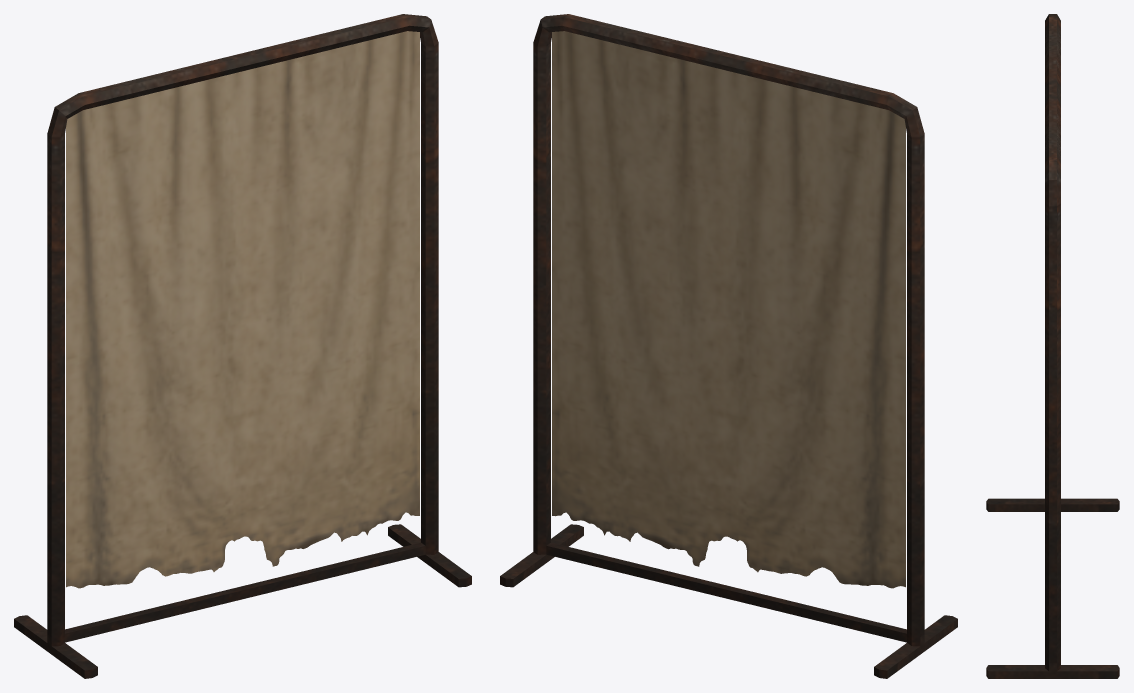
The model's file is Screen.fbx.
3 views of the same model, side by side, from view 1: azimuth 30°, elevation 25°; view 2: azimuth 150°, elevation 25°; view 3: azimuth 270°, elevation 25° (orthographic). The views are drawn at different scales.
Visible parts, largest first — view 1: ScreenCurtain, Screen; view 2: ScreenCurtain, Screen; view 3: Screen.
Part boxes in pixels (bbox=[...]): ScreenCurtain: bbox=[66, 31, 419, 588]; Screen: bbox=[14, 14, 471, 678]; ScreenCurtain: bbox=[552, 31, 905, 588]; Screen: bbox=[500, 14, 957, 678]; Screen: bbox=[986, 14, 1119, 678].
Size of the model in its own units: 128 by 174 by 41.89.
2 materials, 2 textured.
